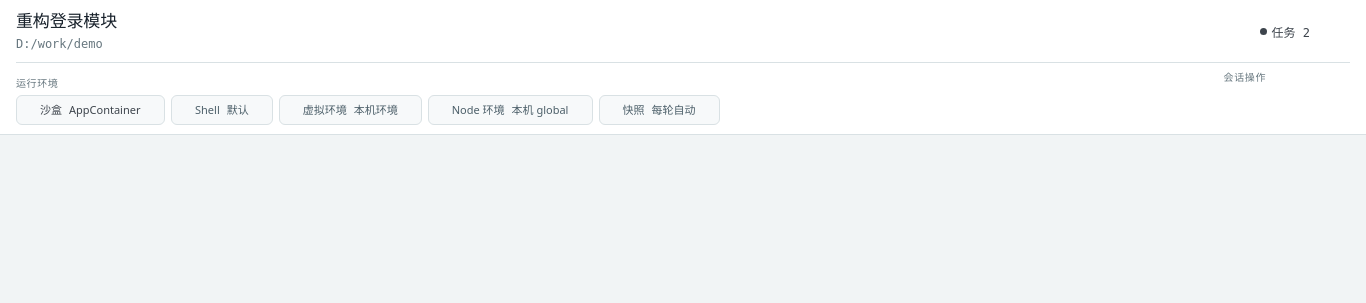
Scenario: SessionHeader 弹层与 pill › 后台任务弹层：运行中在前、已结束后随，耗时可读并逐秒走动；Esc 关闭并还焦
Click the button "任务 2".
click(1285, 32)  # box [1260,23,1310,40]
Wait 2100 ms
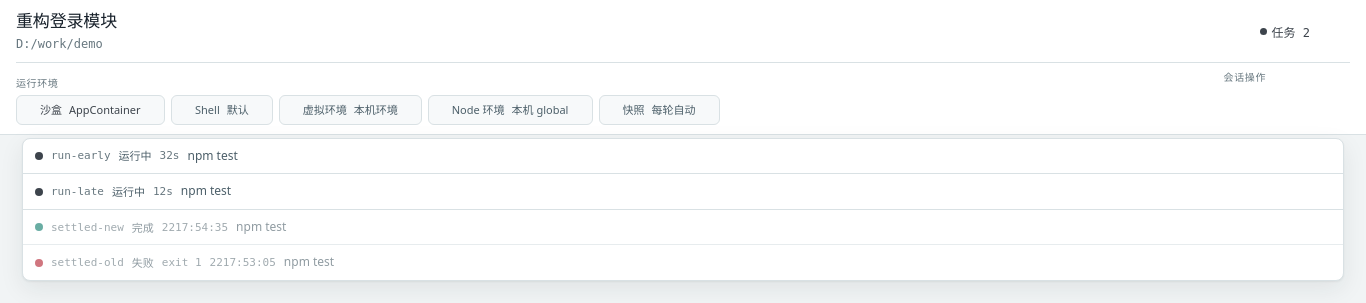
Press Escape
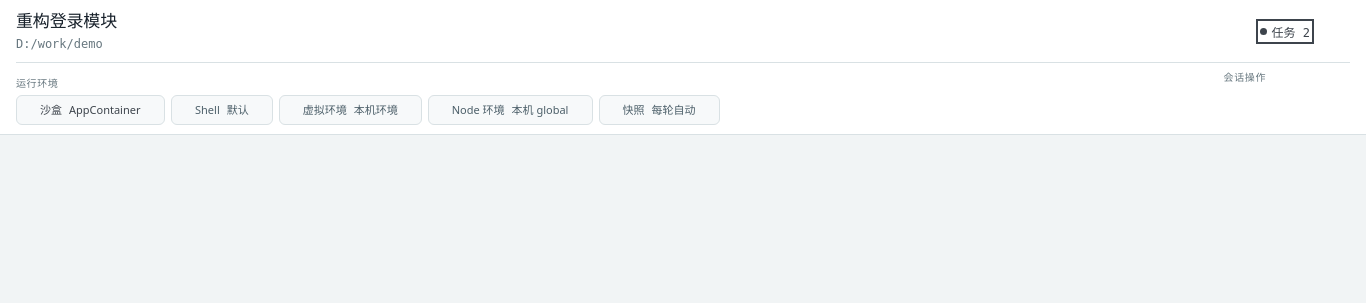
Check: the element with class "task-dropdown" is gone
